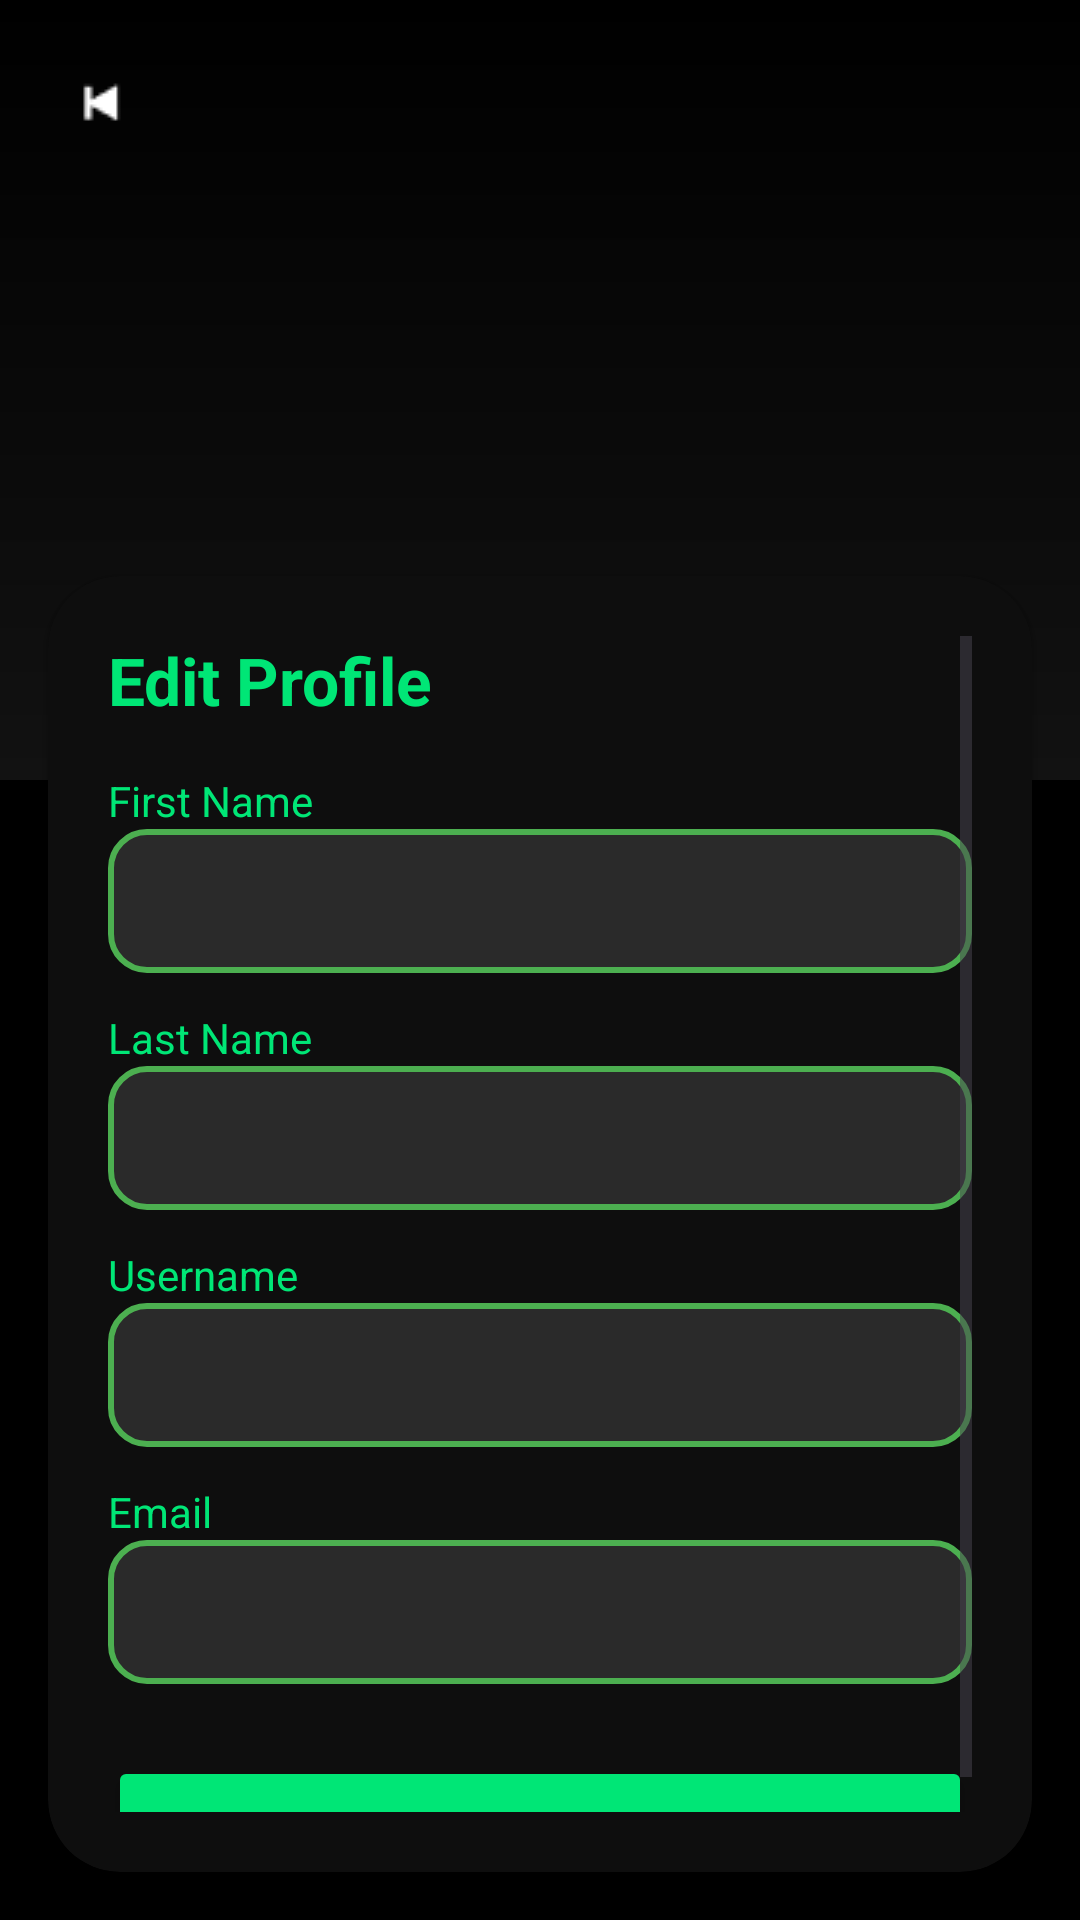

Point at icon controls on the screen. Image size 1080px×1920px, points as [x,y].
Back: [101,102]
